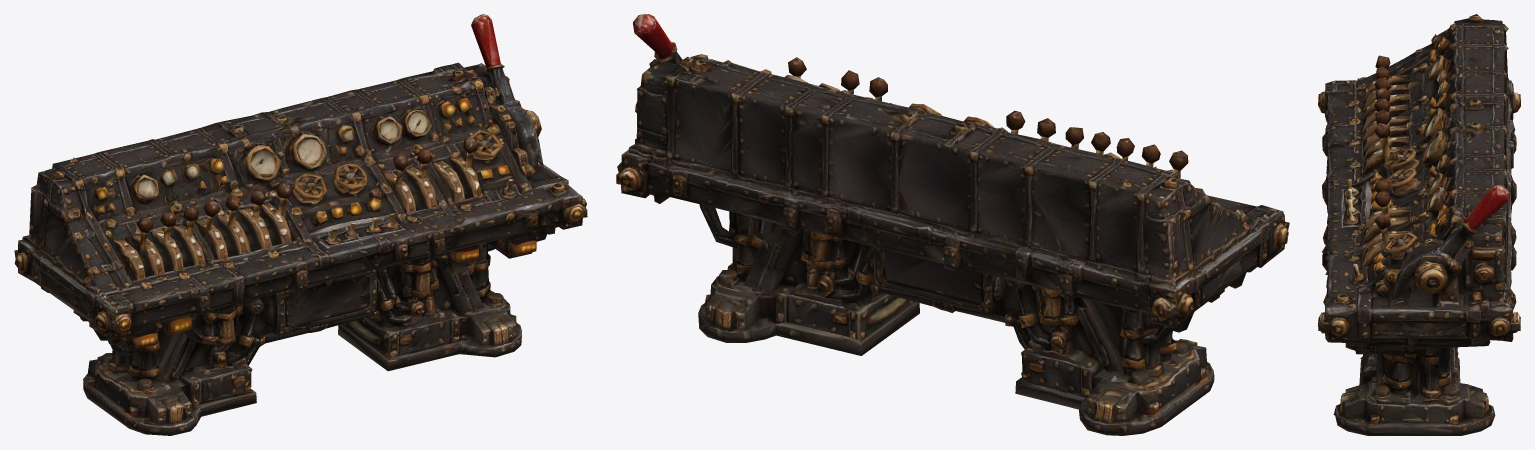
Rendered from console.glb.
3 renders of one model, left to right at view 1: azimuth 30°, elevation 25°; view 2: azimuth 150°, elevation 25°; view 3: azimuth 270°, elevation 25°, orthographic. The views are drawn at different scales.
Parts seen in each view (by area): view 1: console; view 2: console; view 3: console.
Part boxes in pixels (x1,y1,x2,y2): console: (14, 14, 587, 435); console: (616, 14, 1289, 435); console: (1318, 14, 1520, 435).
Bounding box in the file's own units: 2.2 × 1.14 × 0.7925.
1 material, 1 textured.
